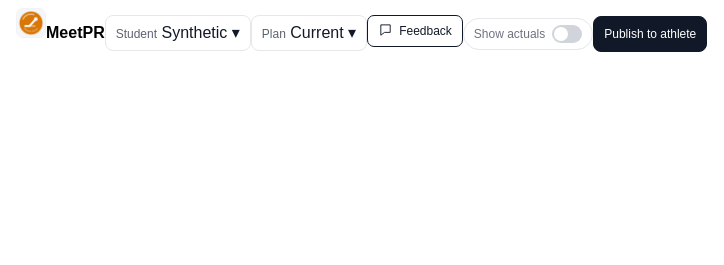
plan editor context bar › marks the whole current plan row and offers the new-plan action in en
Click the button "Plan Current ▾": (309, 32) [251,14,367,50]
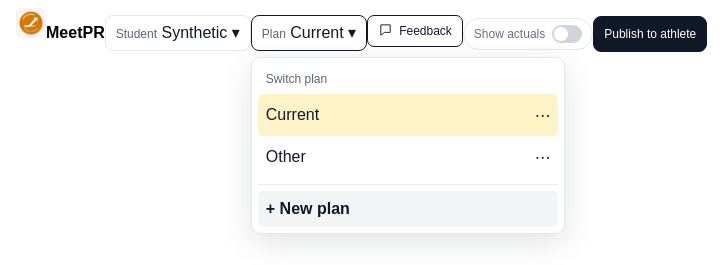
Click the menu item "+ New plan": (308, 208) [258,190,558,226]
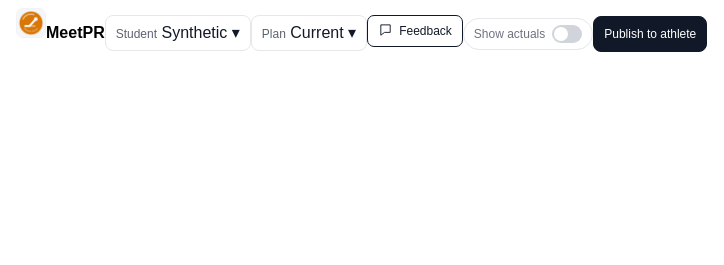
Now the button "⋯" is gone
